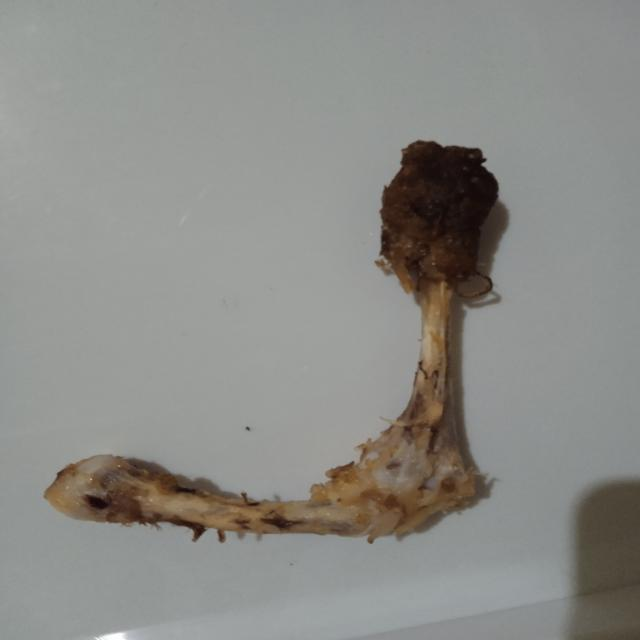bone: (38, 134, 512, 550)
